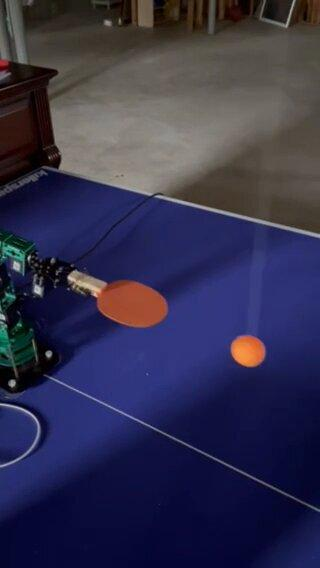oball: (229, 334, 269, 368)
